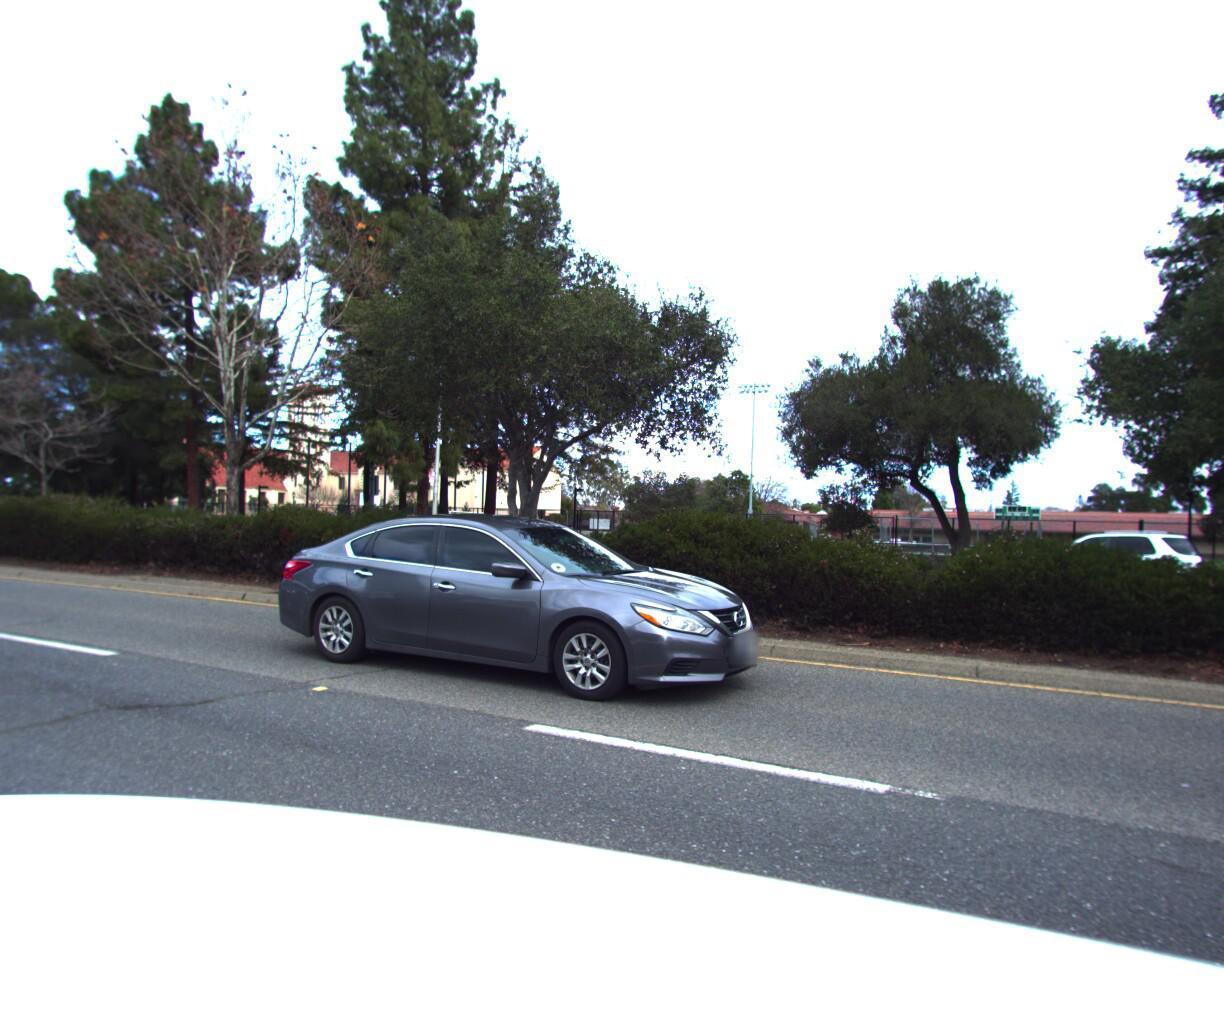car: (276, 503, 780, 714), (1001, 518, 1213, 607), (573, 516, 696, 568)
